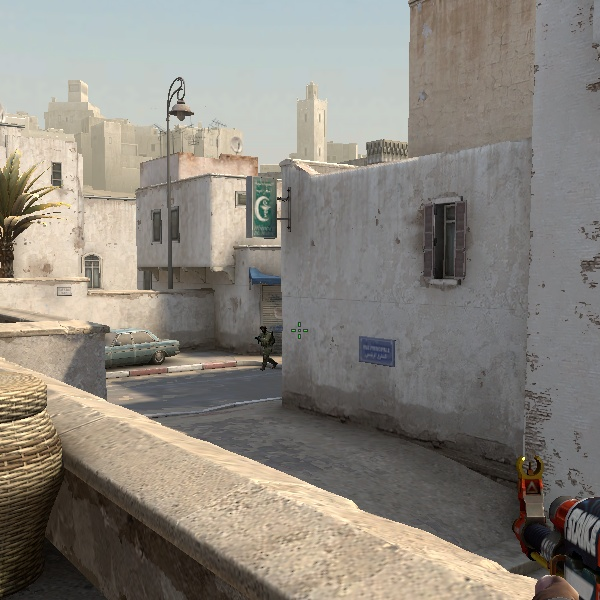ct_body: (252, 323, 277, 370)
